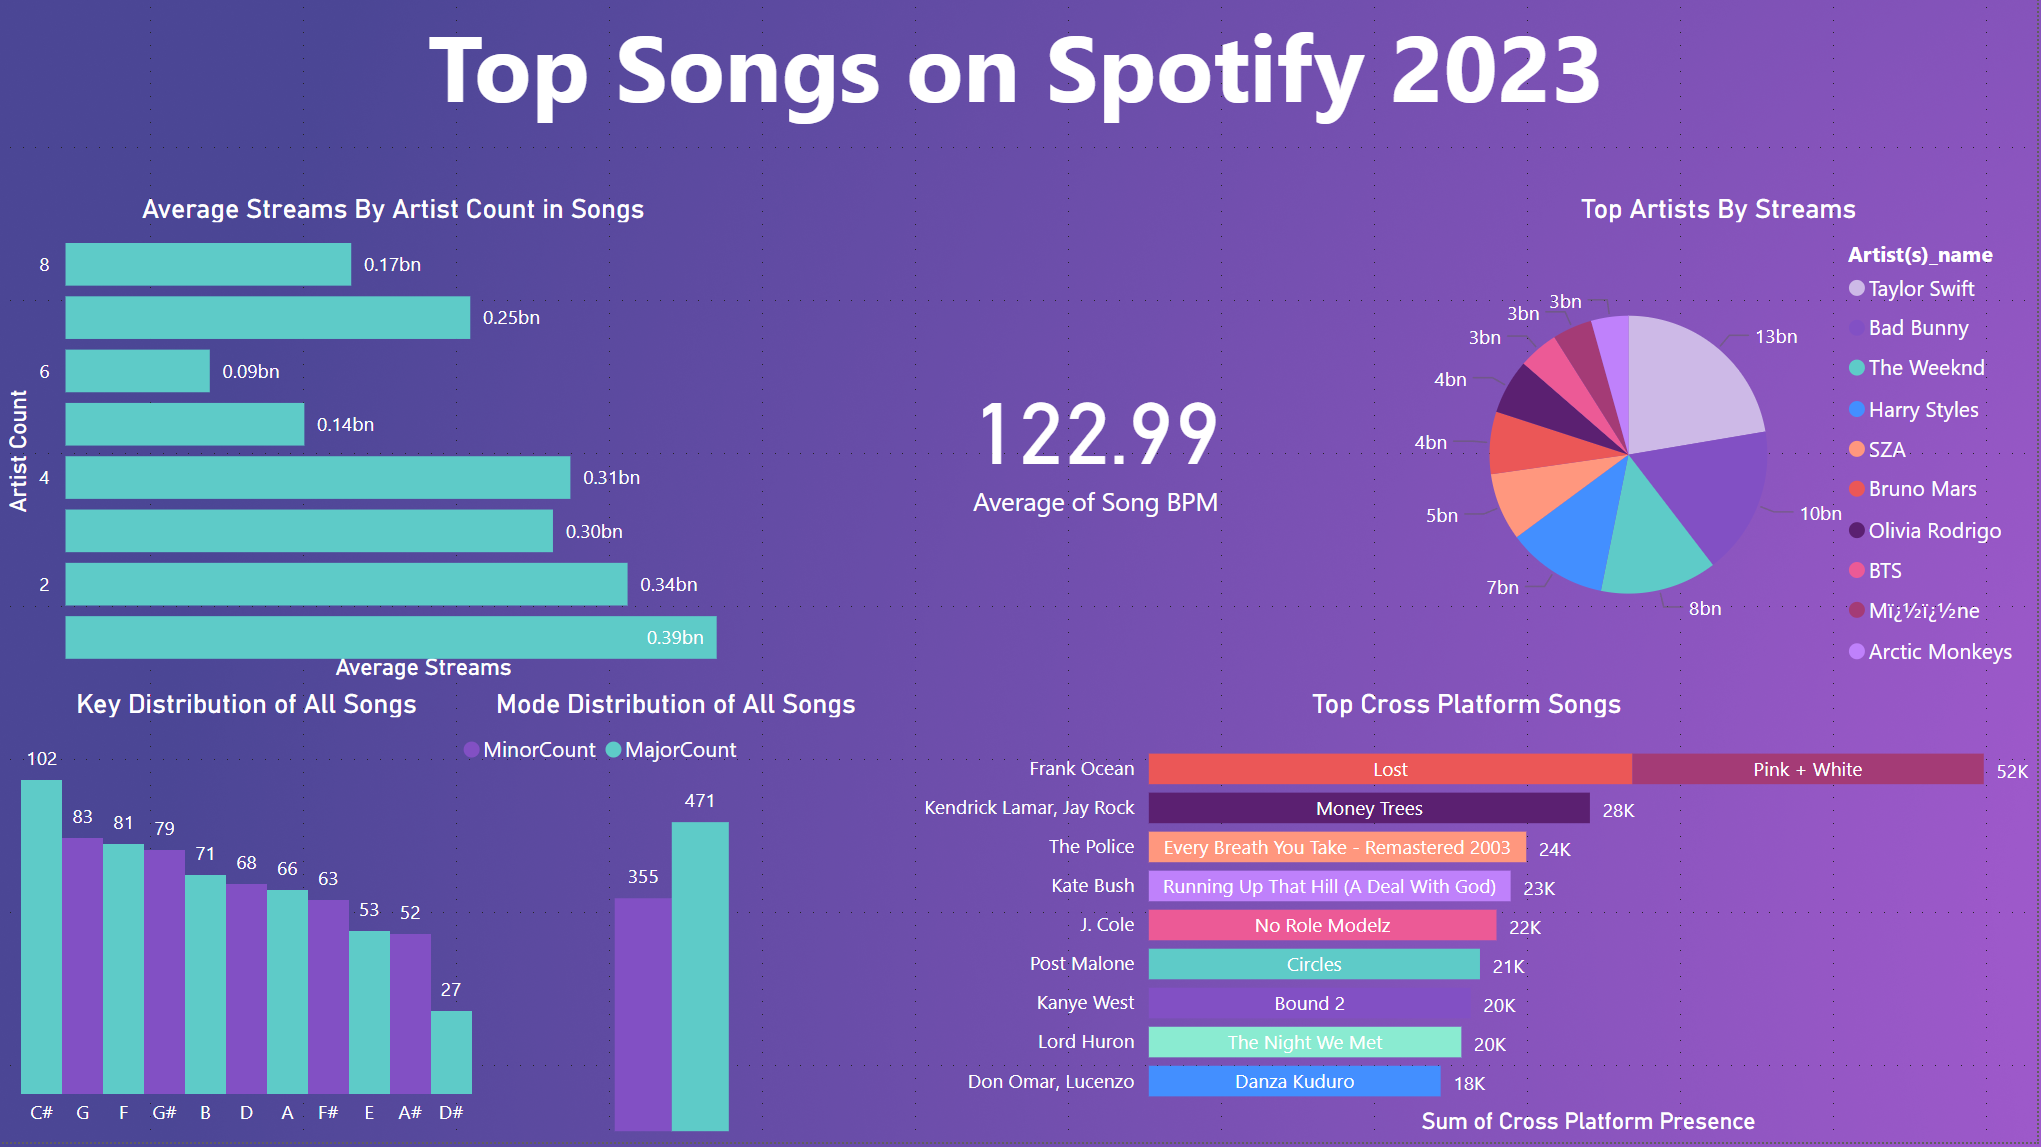

Layout of this report page (visuals, bound fields, positions):
{"tool":"powerbi","page":{"name":"Page 1","canvas":[1280,720],"ordinal":0},"visuals":[{"type":"pieChart","title":"Top Artists By Streams","fields":{"Category":["top_artists_by_streams.artist(s)_name"],"Y":["top_artists_by_streams.streams"]},"box":[880.9,124.2,398.4,310.6],"z":0},{"type":"barChart","title":"Top Cross Platform Songs","fields":{"Category":["top_cross_platform_songs.artist(s)_name"],"Y":["top_cross_platform_songs.cross_platform_presence"],"Series":["top_cross_platform_songs.track_name"]},"box":[564.9,435,714.8,285],"z":1000},{"type":"textbox","box":[0,0,1279.8,93],"z":2000},{"type":"clusteredColumnChart","title":"Mode Distribution of All Songs","fields":{"Y":["spotify_2023_queried.MinorCount","spotify_2023_queried.MajorCount"]},"box":[286.5,435,278.4,285],"z":3000},{"type":"clusteredColumnChart","title":"Key Distribution of All Songs","fields":{"Y":["spotify_2023_queried.key"],"Category":["spotify_2023_queried.key"]},"box":[0,434.7,313,285.3],"z":4000},{"type":"barChart","title":"Average Streams By Artist Count in Songs","fields":{"Category":["avg_streams_by_artist_count.artist_count"],"Y":["avg_streams_by_artist_count.streams"]},"box":[0,124.1,497,310.9],"z":5000},{"type":"card","fields":{"Values":["spotify_2023_queried.bpm"]},"box":[497,124.1,384.7,310.9],"z":6000}]}

Visuals, with their boxes in screenshot pixels (x1, y1, x2, y2), scaled from the page's 1280x720 canvas onto the 2041x1147 screenshot:
"Top Artists By Streams" pieChart: select_region(1405, 198, 2040, 693)
"Top Cross Platform Songs" barChart: select_region(901, 693, 2040, 1146)
textbox: select_region(0, 0, 2040, 148)
"Mode Distribution of All Songs" clusteredColumnChart: select_region(457, 693, 901, 1146)
"Key Distribution of All Songs" clusteredColumnChart: select_region(0, 693, 499, 1146)
"Average Streams By Artist Count in Songs" barChart: select_region(0, 198, 792, 693)
card - spotify_2023_queried.bpm: select_region(792, 198, 1406, 693)
